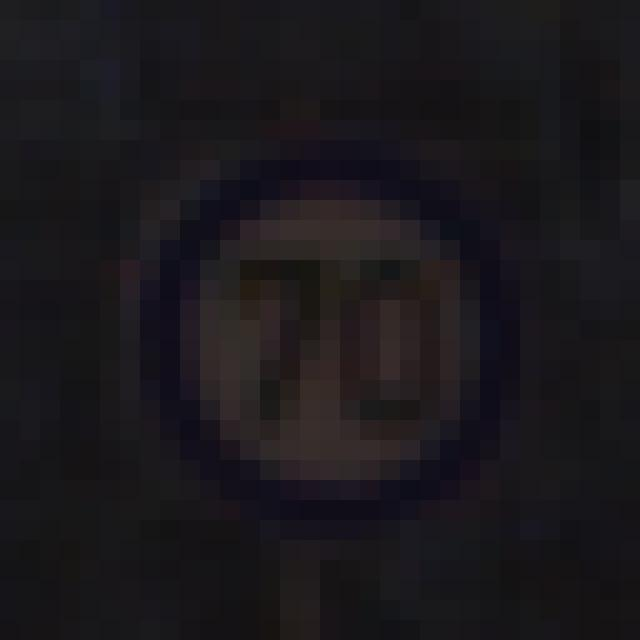SPEED LIMIT 70: (131, 161, 524, 534)
